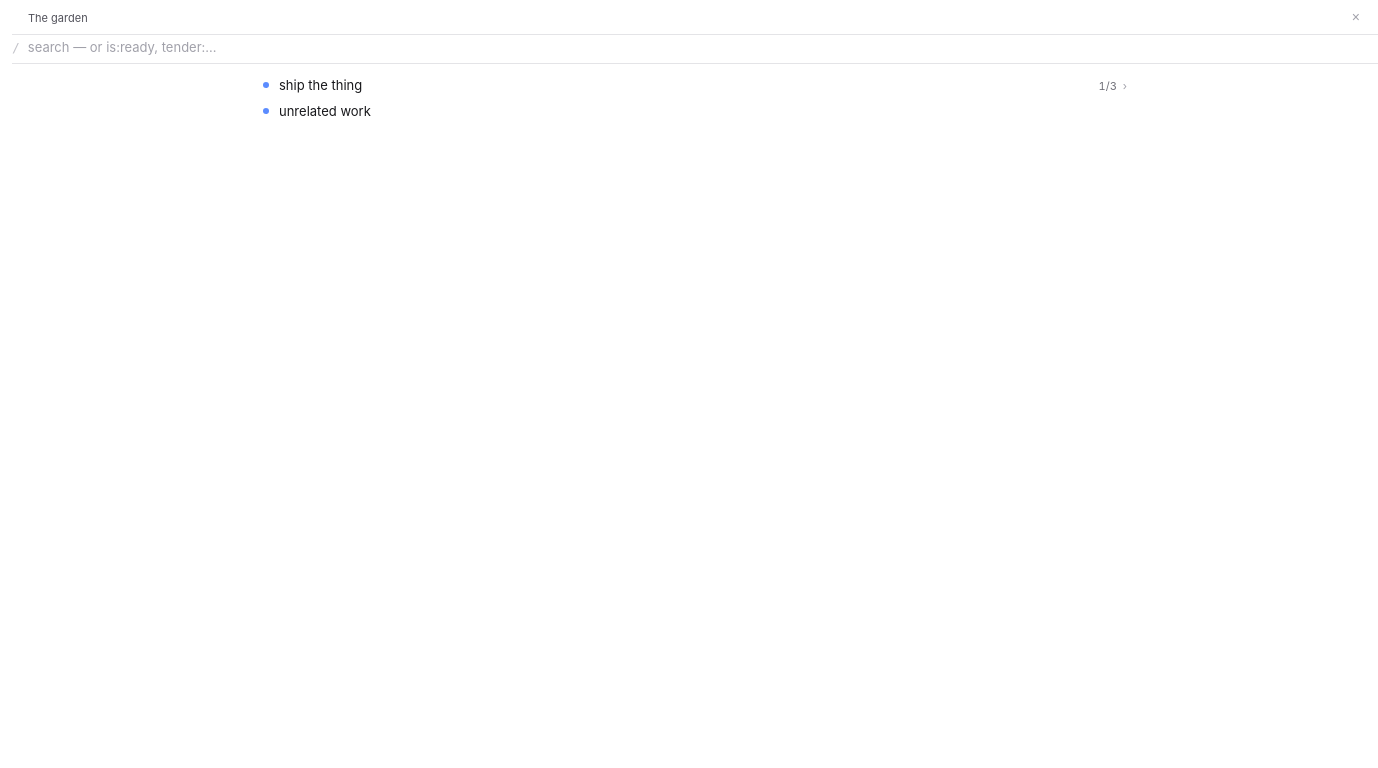
GardenPanel navigation › counts a crown s plot on its row and spells it out on its page
This screenshot has width=1378, height=768.
Expected: the button "unrelated work" does not show "/", [255,98,1135,124]
Expected: the text "1/3 done" is not shown
Step 1. Click the button "ship the thing 1/3 ›" → x=321, y=85, box [255,72,1135,98]
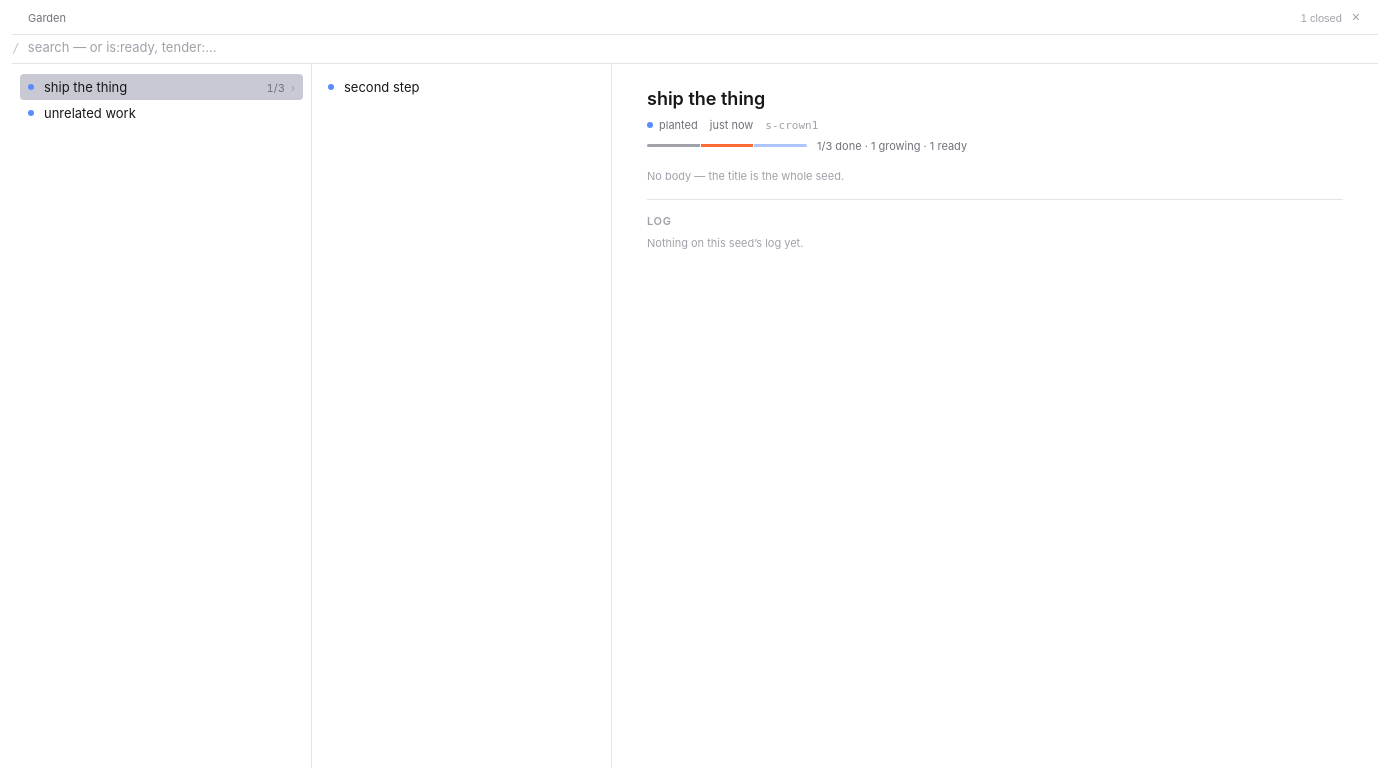
Result: the text "1/3 done · 1 growing · 1 ready" is shown at [817,138,967,152]
